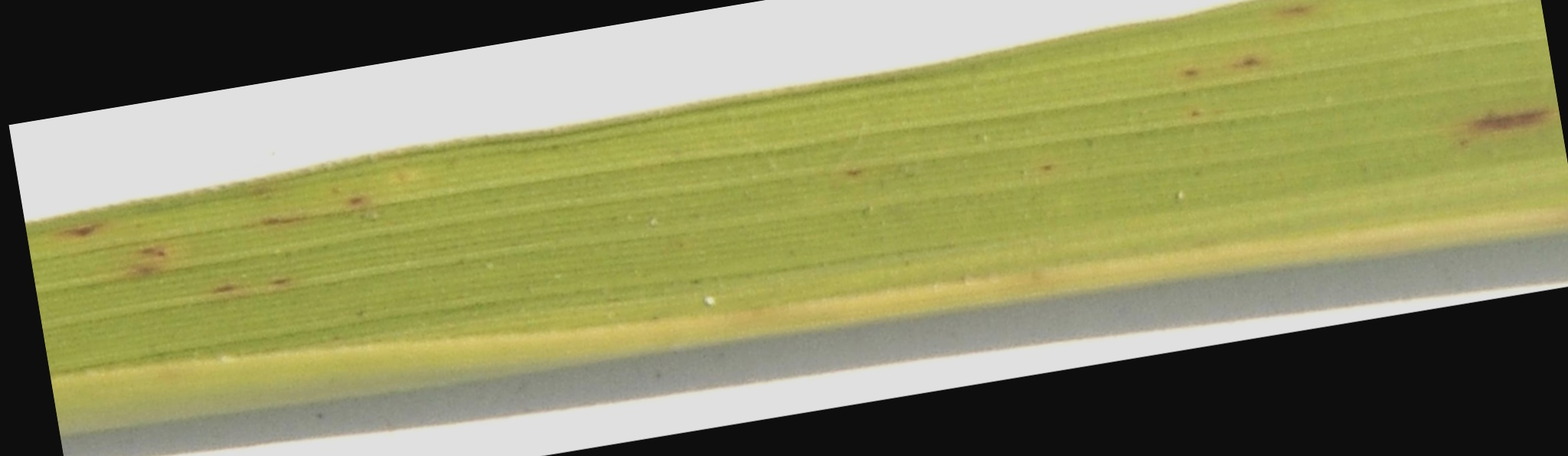Bacterial_Leaf_Blight: (42, 123, 425, 308), (1145, 43, 1288, 117), (1443, 96, 1568, 143)
